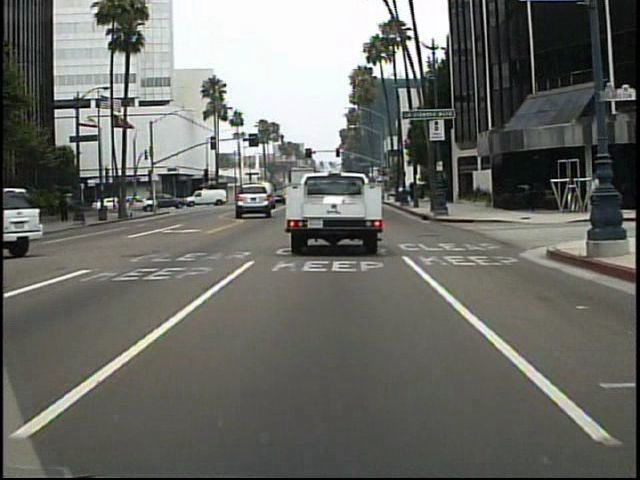person: (593, 168, 609, 217), (588, 171, 600, 212), (142, 194, 151, 213)
